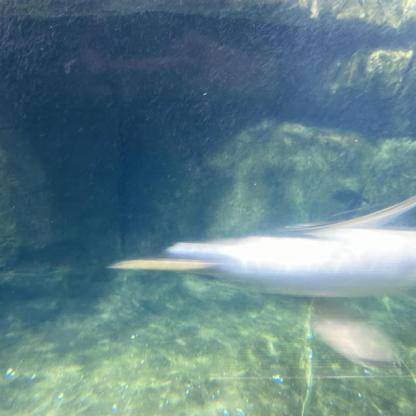penguin: (104, 194, 416, 370)
